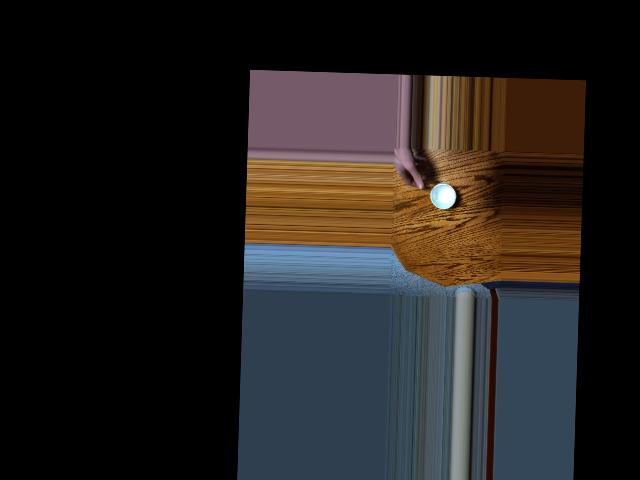cotage: (427, 176, 456, 209)
